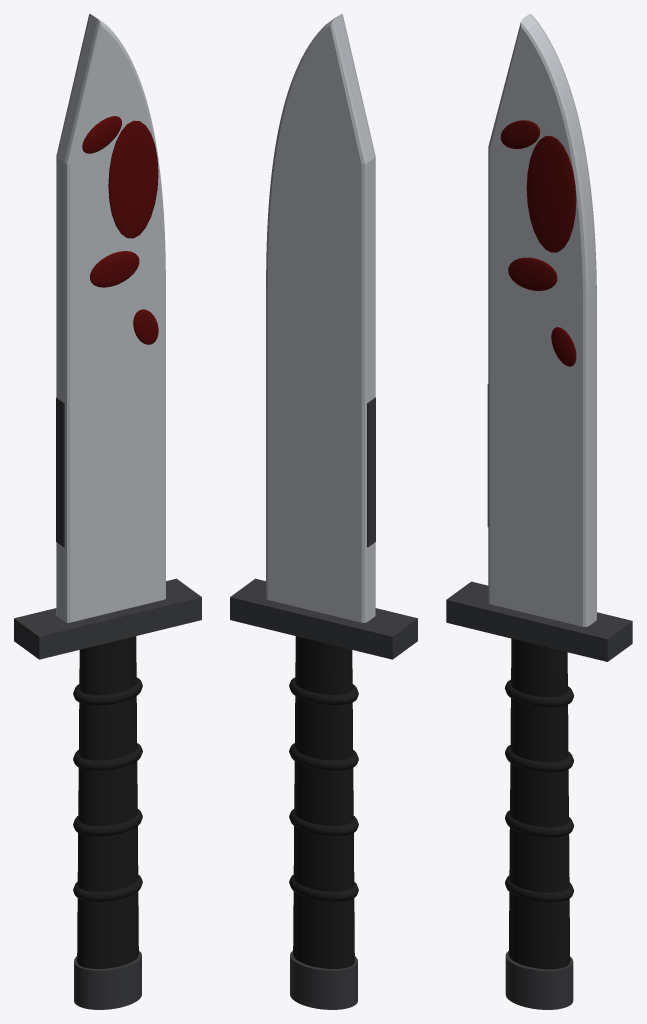
The model's file is cuchillo.glb.
3 views of the same model, side by side, from view 1: azimuth 30°, elevation 25°; view 2: azimuth 150°, elevation 25°; view 3: azimuth 330°, elevation 25° (orthographic).
Parts seen in each view (by area): view 1: hoja, mango, guarda, hoja_sangre_1, pomo, hoja_sangre_2, lomo_dientes, hoja_sangre_4, anillo_4, anillo_3, anillo_2, anillo_1 (+1 smaller); view 2: hoja, mango, guarda, pomo, lomo_dientes, anillo_4, anillo_3, anillo_2, anillo_1; view 3: hoja, mango, guarda, hoja_sangre_1, pomo, hoja_sangre_2, hoja_sangre_4, anillo_4, anillo_3, anillo_2, anillo_1, hoja_sangre_3.
Part boxes in pixels (bbox=[...]): hoja: bbox=[56, 14, 165, 622]; mango: bbox=[77, 636, 138, 968]; guarda: bbox=[14, 578, 201, 659]; hoja_sangre_1: bbox=[108, 120, 158, 238]; pomo: bbox=[74, 951, 141, 1009]; hoja_sangre_2: bbox=[90, 251, 139, 287]; lomo_dientes: bbox=[56, 397, 64, 547]; hoja_sangre_4: bbox=[82, 116, 121, 153]; anillo_4: bbox=[73, 677, 142, 705]; anillo_3: bbox=[73, 743, 142, 770]; anillo_2: bbox=[73, 809, 142, 836]; anillo_1: bbox=[73, 875, 142, 901]; hoja: bbox=[266, 14, 375, 622]; mango: bbox=[293, 636, 354, 968]; guarda: bbox=[230, 578, 417, 659]; pomo: bbox=[290, 951, 357, 1009]; lomo_dientes: bbox=[367, 397, 375, 547]; anillo_4: bbox=[289, 677, 358, 705]; anillo_3: bbox=[289, 743, 358, 770]; anillo_2: bbox=[289, 809, 358, 836]; anillo_1: bbox=[289, 875, 358, 901]; hoja: bbox=[488, 14, 596, 626]; mango: bbox=[508, 638, 570, 969]; guarda: bbox=[446, 581, 632, 661]; hoja_sangre_1: bbox=[526, 135, 576, 252]; pomo: bbox=[505, 951, 573, 1009]; hoja_sangre_2: bbox=[508, 257, 557, 290]; hoja_sangre_4: bbox=[500, 120, 540, 149]; anillo_4: bbox=[505, 679, 573, 707]; anillo_3: bbox=[505, 745, 573, 772]; anillo_2: bbox=[505, 810, 573, 837]; anillo_1: bbox=[505, 876, 573, 902]; hoja_sangre_3: bbox=[551, 327, 576, 366].
Bounding box in the file's own units: 0.26 × 1.5 × 0.075.
